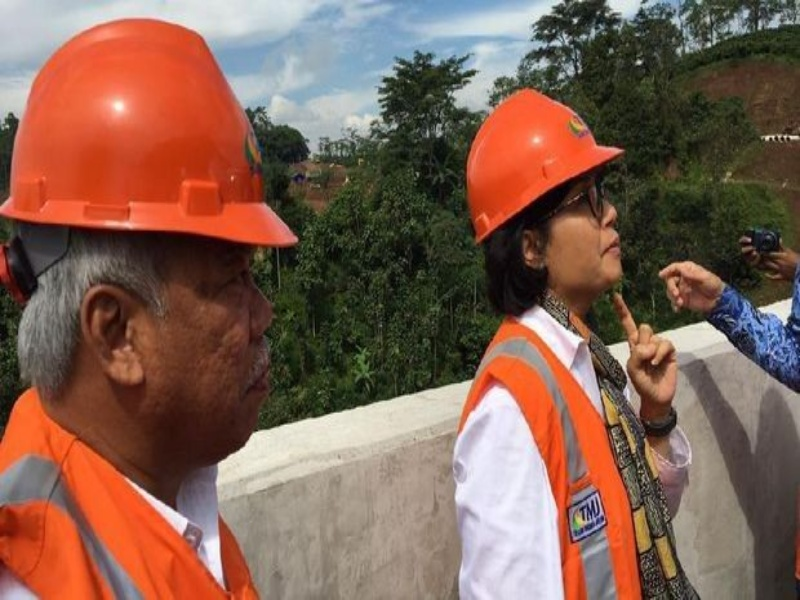helm proyek: (5, 11, 331, 491), (451, 88, 665, 315)
